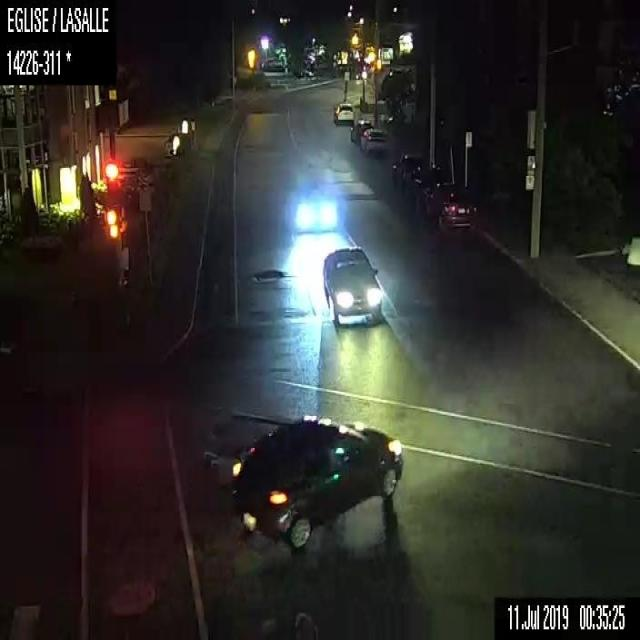vehicle: (226, 411, 403, 549), (322, 244, 383, 323), (417, 180, 477, 237), (390, 153, 425, 189), (360, 124, 388, 151), (350, 117, 374, 142), (332, 101, 356, 123), (261, 55, 286, 70)
